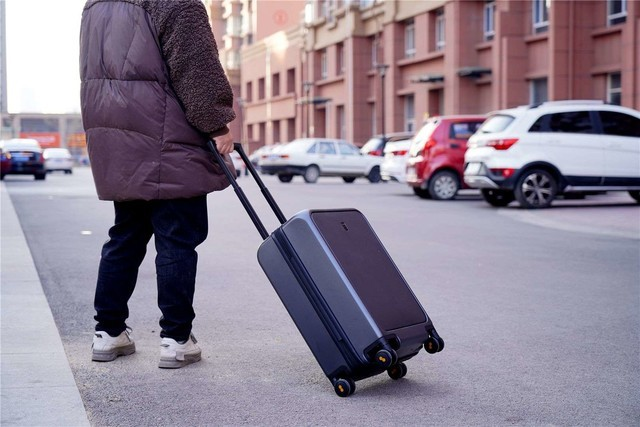box: (256, 208, 433, 383)
wheel: (334, 376, 355, 398), (423, 337, 444, 354), (375, 350, 397, 366), (387, 363, 407, 380)
